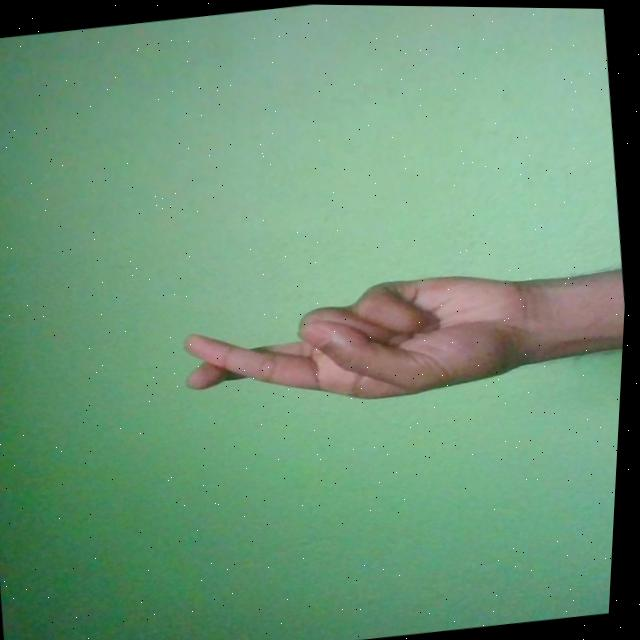Good Luck: (180, 259, 547, 420)
